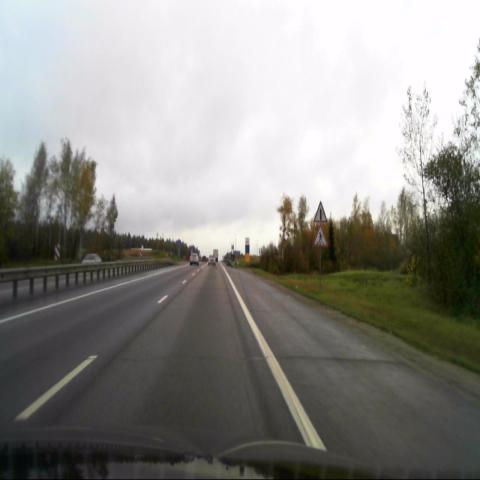1_22: (312, 223, 328, 247)
